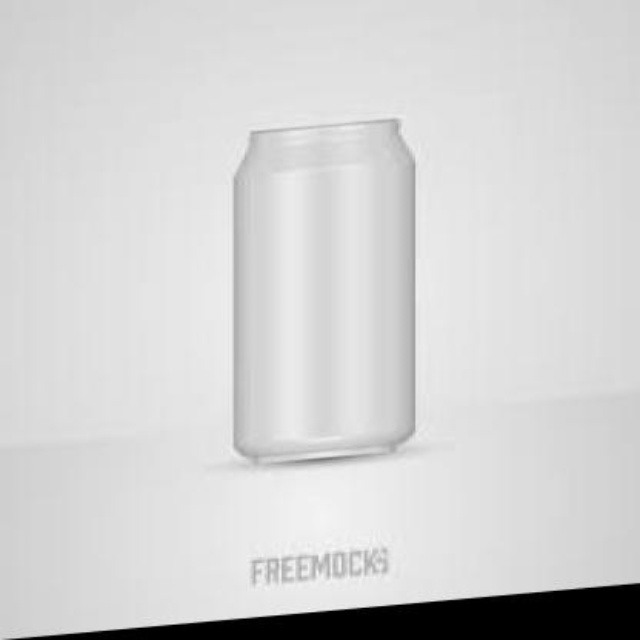trash: (234, 120, 414, 460)
